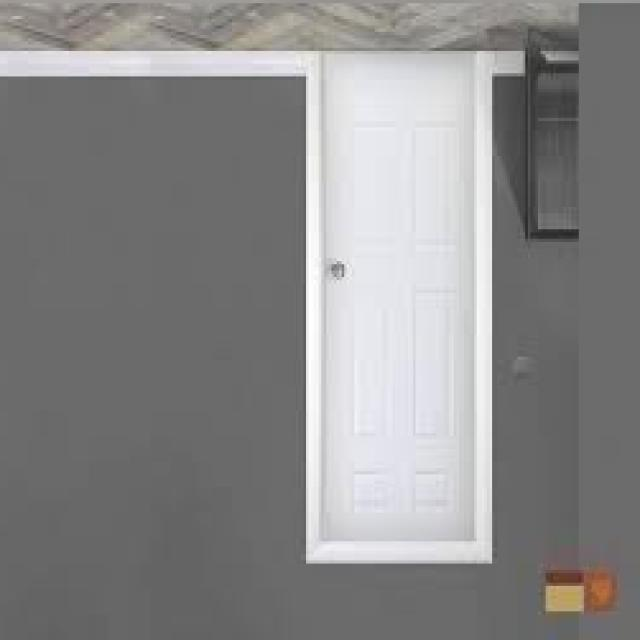door: (316, 49, 482, 556)
